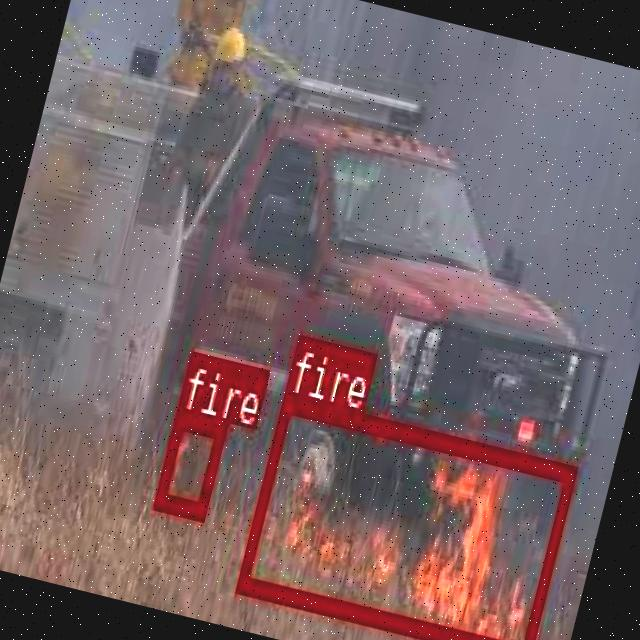fire: (234, 391, 574, 640), (152, 409, 226, 516)
